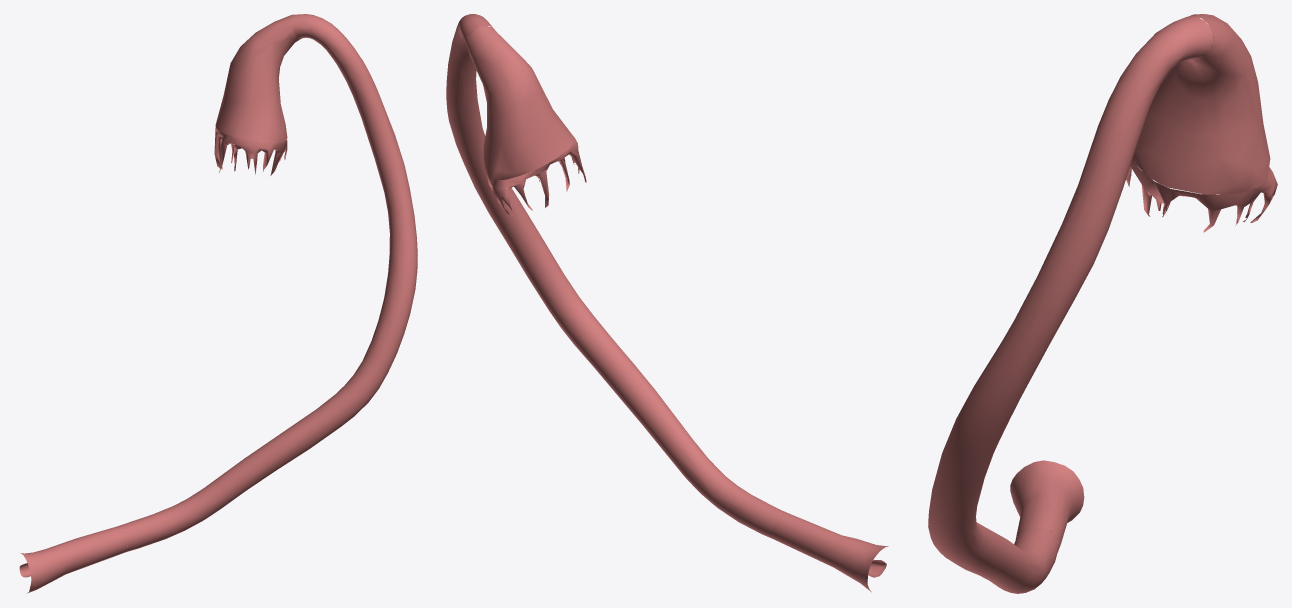
File: vh_f_fallopian_tube_l-20.glb
The picture shows the model from 3 angles, left to right: view 1: azimuth 30°, elevation 25°; view 2: azimuth 150°, elevation 25°; view 3: azimuth 270°, elevation 25°; orthographic projection. The views are drawn at different scales.
Parts seen in each view (by area): view 1: VH_F_ampulla_of_uterine_tube_L, VH_F_uterine_tube_infundibulum_L, VH_F_isthmus_of_fallopian_tube_L, VH_F_fibria_of_uterine_tube_L; view 2: VH_F_ampulla_of_uterine_tube_L, VH_F_uterine_tube_infundibulum_L, VH_F_isthmus_of_fallopian_tube_L, VH_F_fibria_of_uterine_tube_L; view 3: VH_F_ampulla_of_uterine_tube_L, VH_F_uterine_tube_infundibulum_L, VH_F_isthmus_of_fallopian_tube_L, VH_F_fibria_of_uterine_tube_L.
Boxes of the visible parts, left/top/right/bottom form: VH_F_ampulla_of_uterine_tube_L: left=118, top=14, right=417, bottom=551; VH_F_uterine_tube_infundibulum_L: left=215, top=15, right=299, bottom=142; VH_F_isthmus_of_fallopian_tube_L: left=19, top=526, right=127, bottom=593; VH_F_fibria_of_uterine_tube_L: left=214, top=127, right=287, bottom=175; VH_F_ampulla_of_uterine_tube_L: left=446, top=14, right=785, bottom=538; VH_F_uterine_tube_infundibulum_L: left=465, top=26, right=574, bottom=180; VH_F_isthmus_of_fallopian_tube_L: left=771, top=512, right=888, bottom=592; VH_F_fibria_of_uterine_tube_L: left=486, top=136, right=586, bottom=216; VH_F_ampulla_of_uterine_tube_L: left=928, top=16, right=1212, bottom=593; VH_F_uterine_tube_infundibulum_L: left=1132, top=14, right=1270, bottom=194; VH_F_isthmus_of_fallopian_tube_L: left=1010, top=460, right=1084, bottom=551; VH_F_fibria_of_uterine_tube_L: left=1126, top=159, right=1277, bottom=232.
Bounding box in the file's own units: 0.0386 × 0.0445 × 0.0186.
